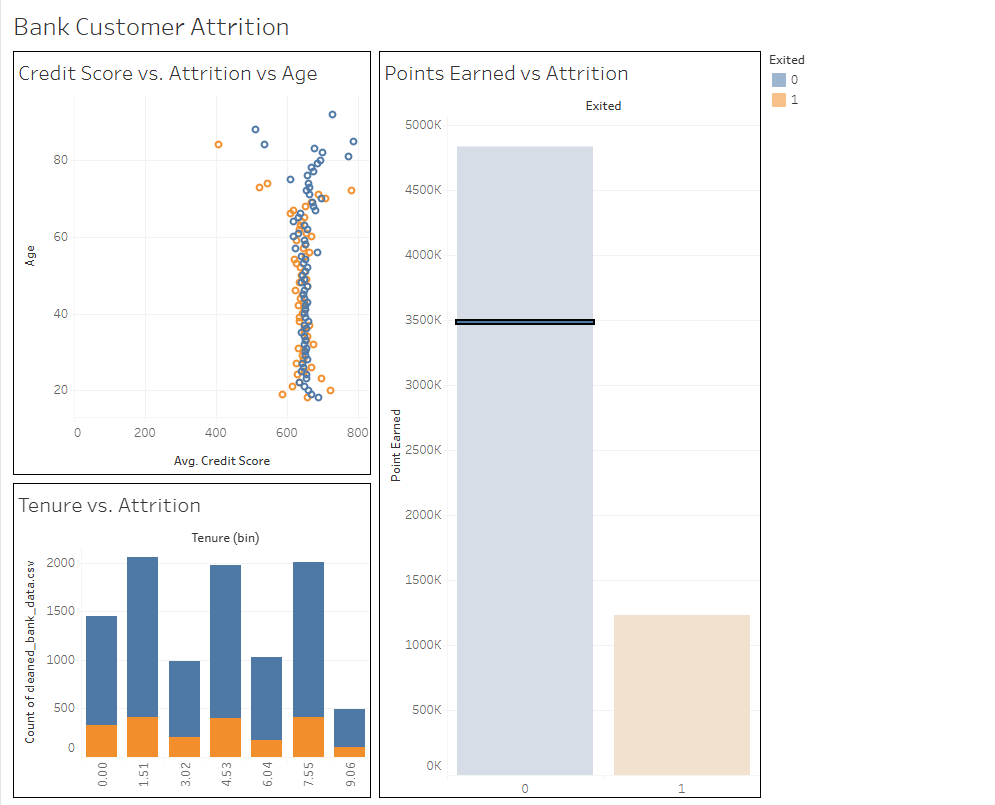

What the dashboard file says about the page in this screenshot:
{"tool":"tableau","page":{"name":"Bank Customer Attrition","canvas":[1000,1000],"units":"permille","ordinal":0},"visuals":[{"type":"title","box":[4.8,9.6,990.3,60.2]},{"type":"worksheet","title":"Credit Score vs. Attrition vs Age","mark":"Shape","rows":["Age"],"cols":["CreditScore"],"box":[4.8,69.8,412.8,526.4]},{"type":"worksheet","title":"Points Earned vs Attrition","mark":"Bar","rows":["PointEarned"],"cols":["Exited"],"box":[417.6,69.8,439.9,920.6]},{"type":"legend","title":"Points Earned vs Attrition","param":"[federated.1k8iuid0zdgfx51agqots0jz0tc9].[none:Exited:nk]","box":[857.6,69.8,137.6,86.7]},{"type":"worksheet","title":"Tenure vs. Attrition","mark":"Automatic","rows":["cleaned_bank_data.csv_0C3B2DBAB0C94DDD9211331C2DF57546"],"cols":["Tenure (bin)"],"box":[4.8,596.2,412.8,394.2]}]}

Visuals, with their boxes on the dashboard's canvas, which has no fixed pixel size, in thousandths of its width and height (x1, y1, x2, y2). These are canvas units, not pixel positions in the 995x805 screenshot, which may show the page scaled, cropped or inside an application window:
title: x1=5, y1=10, x2=995, y2=70
"Credit Score vs. Attrition vs Age" worksheet (Shape marks): x1=5, y1=70, x2=418, y2=596
"Points Earned vs Attrition" worksheet (Bar marks): x1=418, y1=70, x2=858, y2=990
"Points Earned vs Attrition" legend: x1=858, y1=70, x2=995, y2=156
"Tenure vs. Attrition" worksheet: x1=5, y1=596, x2=418, y2=990
